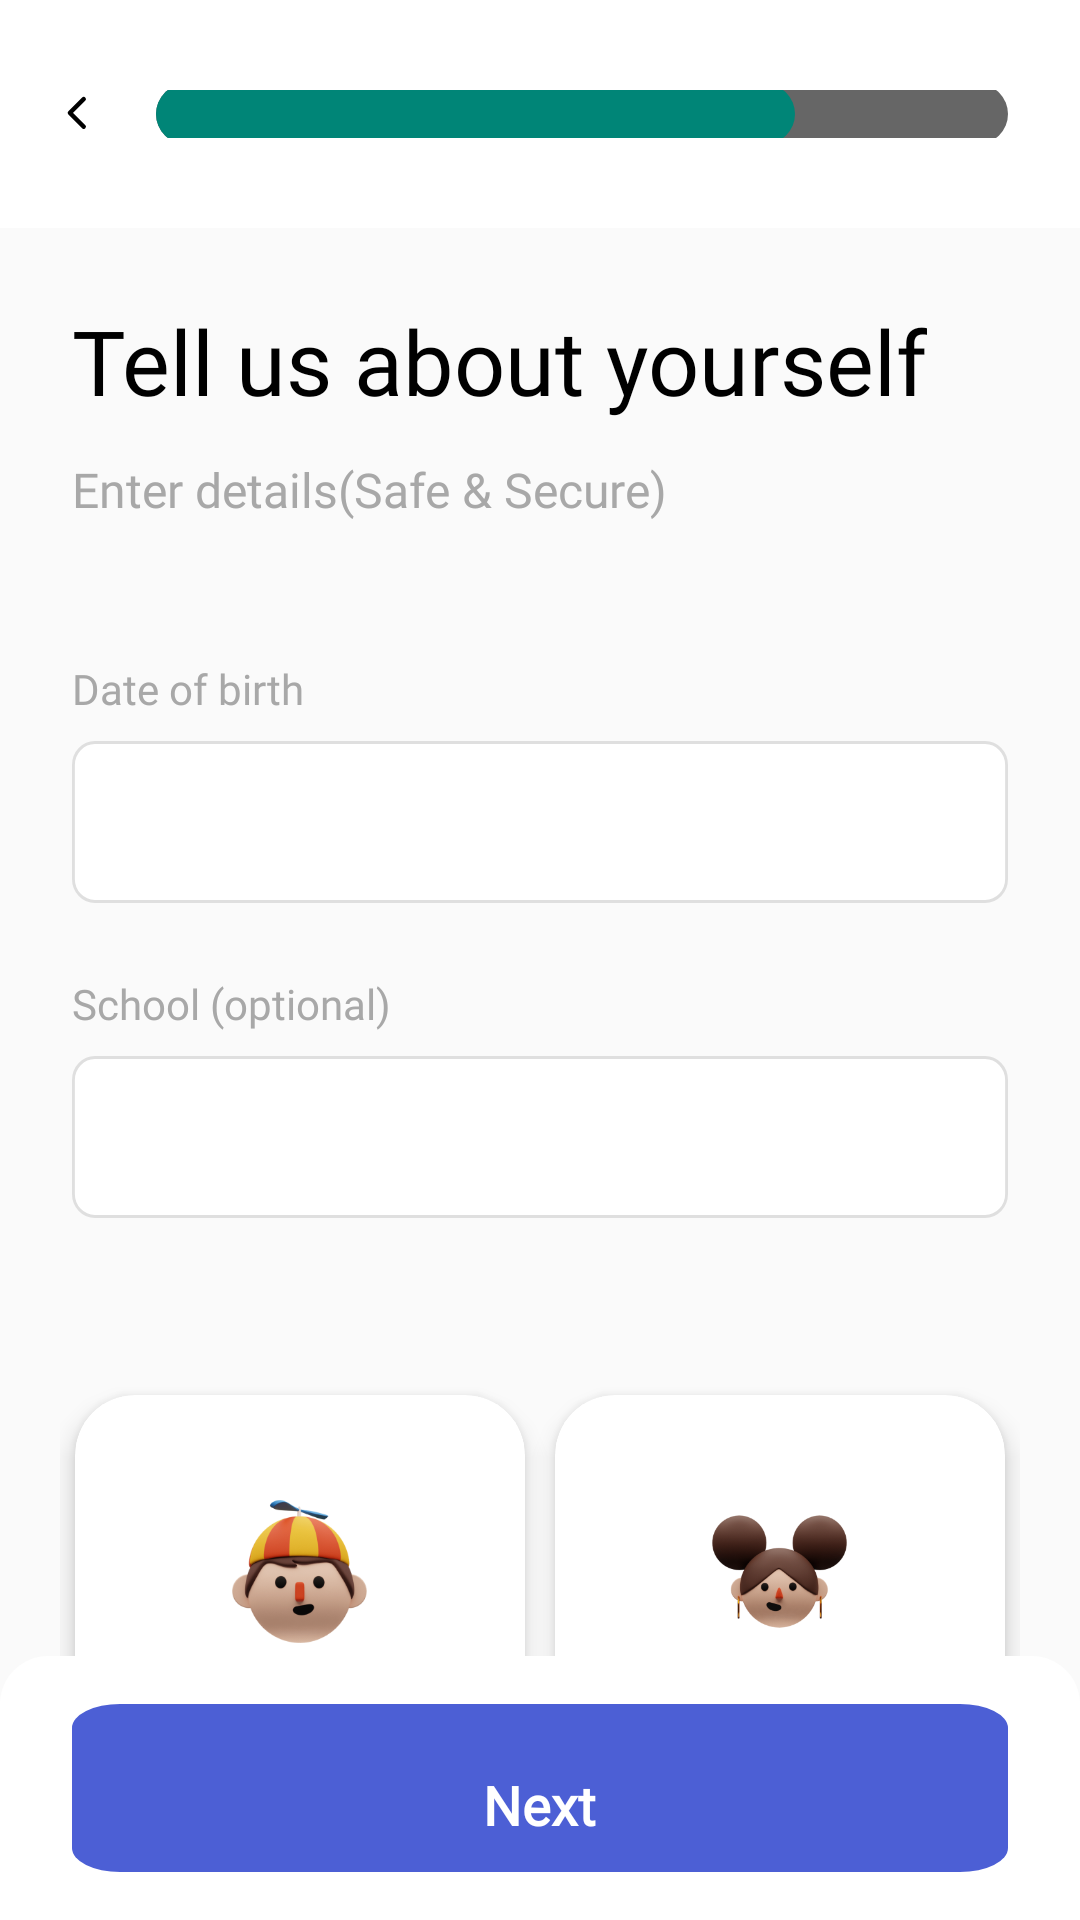

Where icons sit on this 1080px x 1920px app screen, as (x1, y1, x2, y2):
backicon: (67, 96, 86, 129)
boyicon: (232, 1500, 367, 1643)
